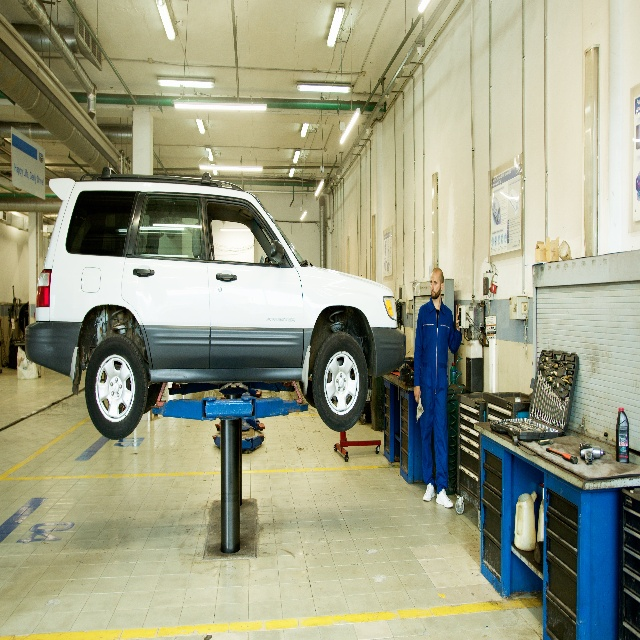Sin_guantes: (414, 385, 421, 404), (456, 303, 461, 329)
